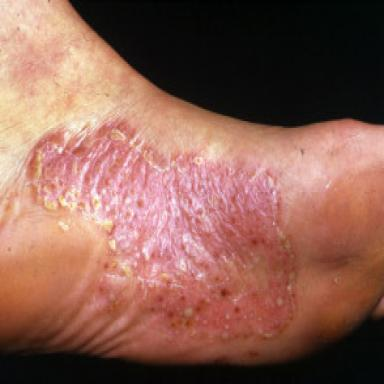eczema: (27, 119, 294, 340)
